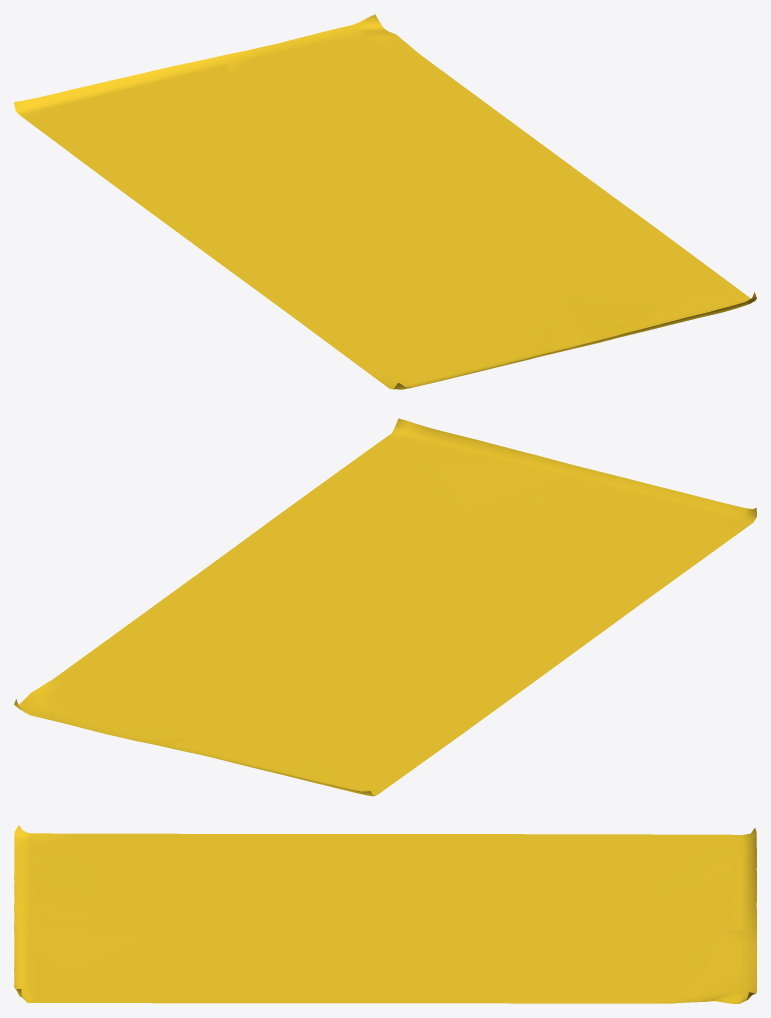
File: SM_Medical_Cart_4_cloth.FBX
The picture shows the model from 3 angles, top to bottom: view 1: azimuth 30°, elevation 25°; view 2: azimuth 150°, elevation 25°; view 3: azimuth 270°, elevation 25°; orthographic projection. The views are drawn at different scales.
Parts seen in each view (by area): view 1: Medical_Cart_4_cloth; view 2: Medical_Cart_4_cloth; view 3: Medical_Cart_4_cloth.
Part boxes in pixels (left/top/right/bottom): Medical_Cart_4_cloth: left=14, top=14, right=756, bottom=389; Medical_Cart_4_cloth: left=14, top=418, right=756, bottom=796; Medical_Cart_4_cloth: left=14, top=825, right=756, bottom=1003.
Bounding box in the file's own units: 82.2 × 152 × 2.87.
